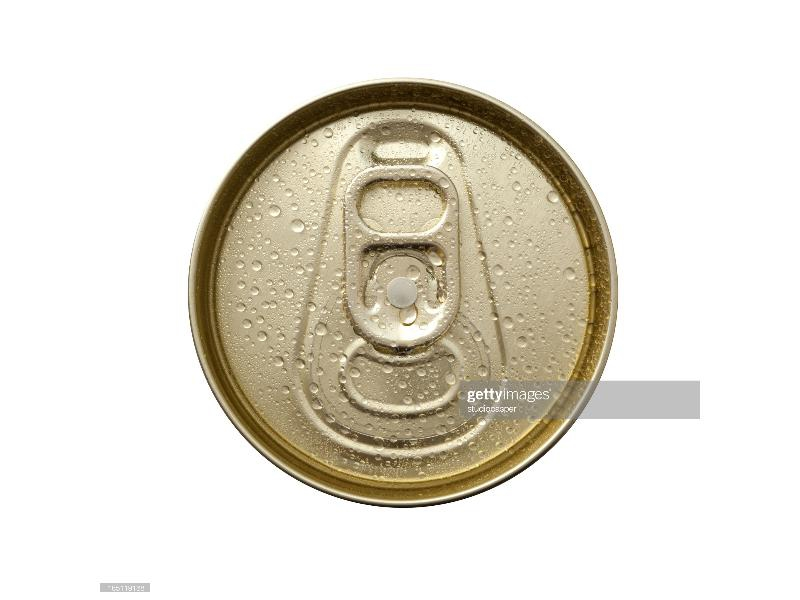can: (194, 78, 613, 503)
